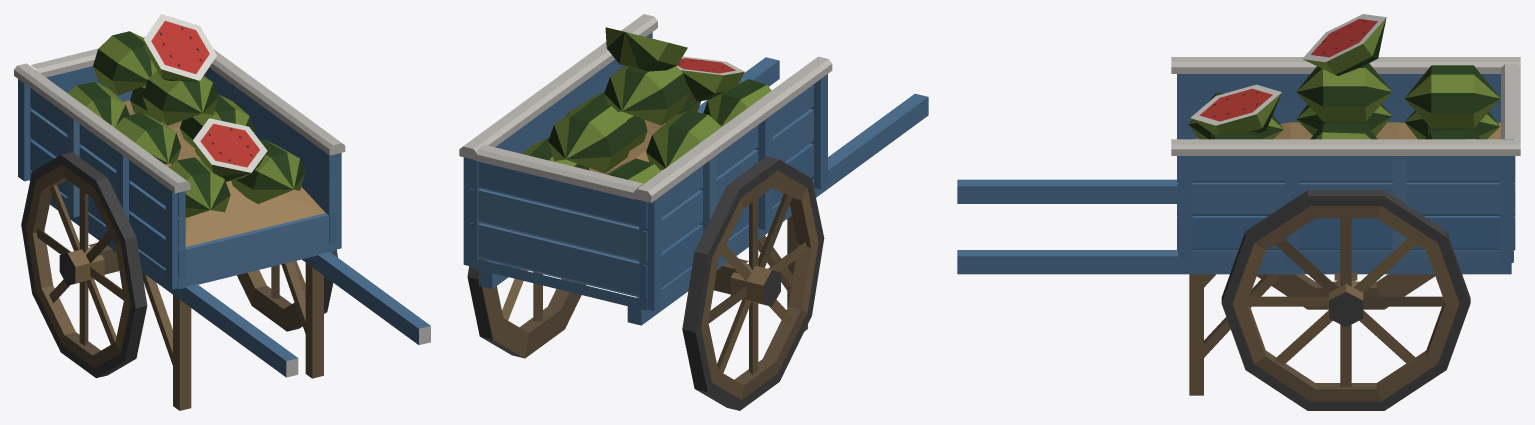
File: melon-cart-75f0cc.glb
3 renders of one model, left to right at view 1: azimuth 30°, elevation 25°; view 2: azimuth 150°, elevation 25°; view 3: azimuth 270°, elevation 25°, orthographic. The views are drawn at different scales.
Parts seen in each view (by area): view 1: object 1, wheel-right, object 5, object 4, wheel-left; view 2: object 1, wheel-right, wheel-left, object 5, object 4; view 3: object 1, wheel-left, object 5, object 4, wheel-right.
Part boxes in pixels (x1,y1,x2,y2): object 1: (14,31,430,410); wheel-right: (21,152,147,378); object 5: (144,14,216,81); object 4: (193,118,267,181); wheel-left: (237,249,337,331); object 1: (459,14,928,331); wheel-right: (682,156,824,410); wheel-left: (467,259,586,358); object 5: (605,27,687,71); object 4: (676,56,744,101); object 1: (957,57,1520,395); wheel-left: (1221,190,1470,410); object 5: (1302,14,1386,75); object 4: (1190,84,1281,134); wheel-right: (1257,274,1434,309).
Bounding box in the file's own units: 1 × 1.33 × 2.
